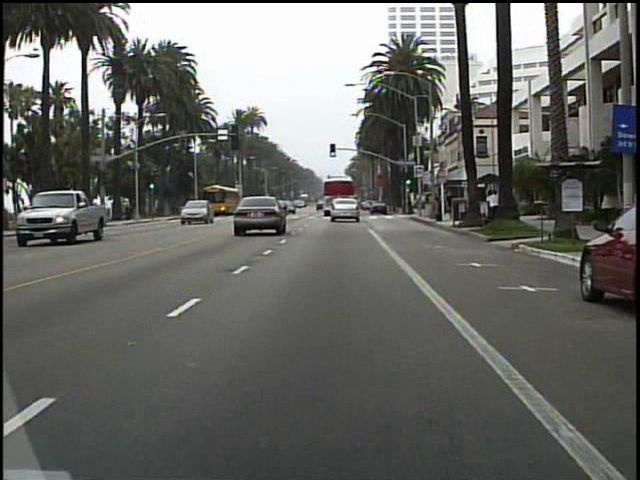person: (485, 189, 502, 226)
